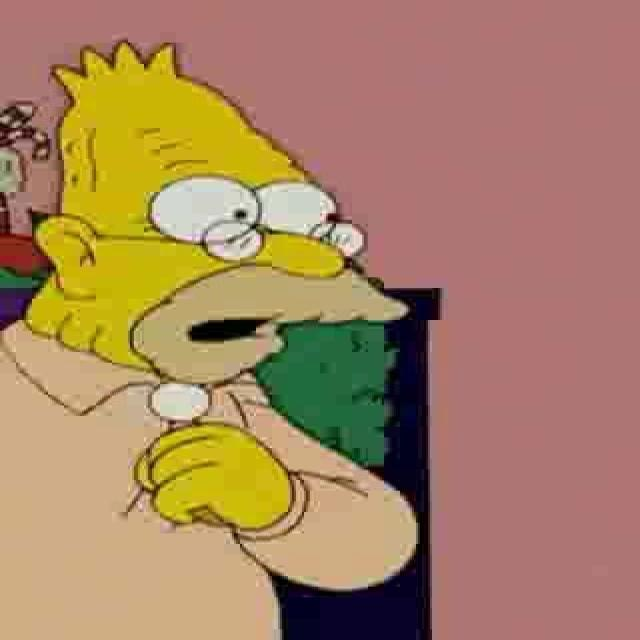Abraham Grampa Simpson: (23, 37, 417, 390)
